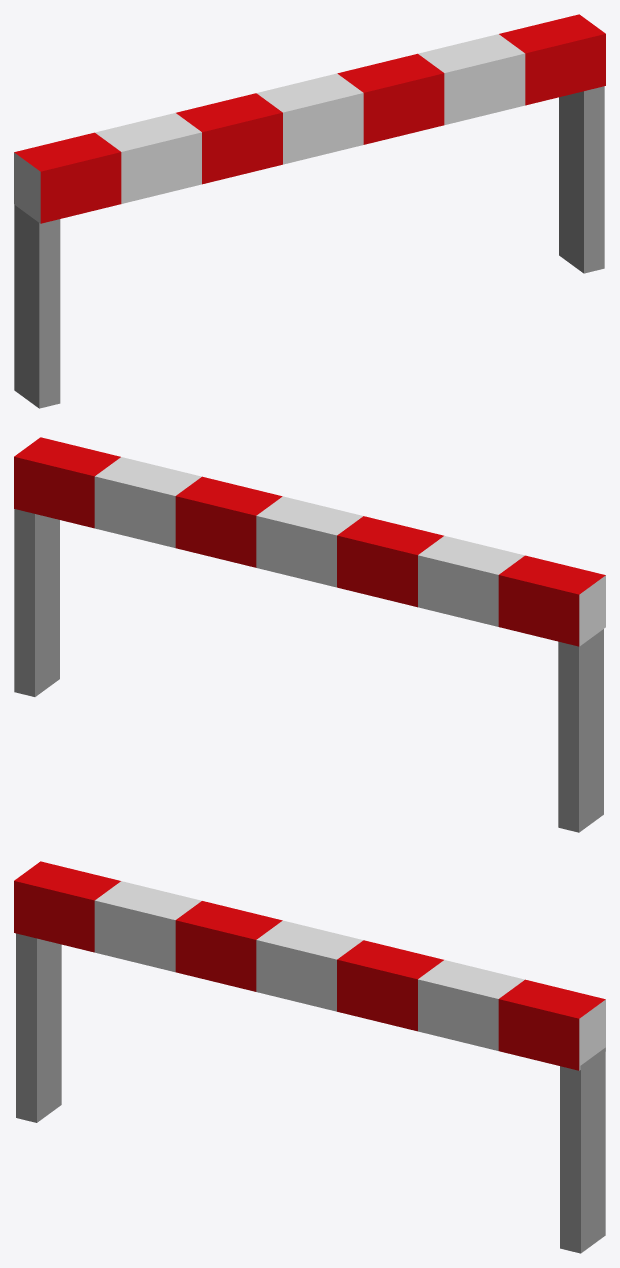
File: Barijera.fbx
The picture shows the model from 3 angles, top to bottom: view 1: azimuth 30°, elevation 25°; view 2: azimuth 150°, elevation 25°; view 3: azimuth 330°, elevation 25°; orthographic projection.
Visible parts, largest first — view 1: Cube, Cube.001, Cube.002; view 2: Cube, Cube.001, Cube.002; view 3: Cube, Cube.002, Cube.001.
Part boxes in pixels (x1,y1,x2,y2): Cube: [14, 14, 605, 223]; Cube.001: [14, 205, 60, 408]; Cube.002: [559, 86, 604, 273]; Cube: [14, 437, 605, 646]; Cube.001: [558, 629, 603, 832]; Cube.002: [14, 509, 59, 696]; Cube: [14, 861, 605, 1070]; Cube.002: [560, 1047, 605, 1253]; Cube.001: [16, 933, 61, 1122].
Bounding box in the file's own units: 229 × 92.14 × 18.65.
